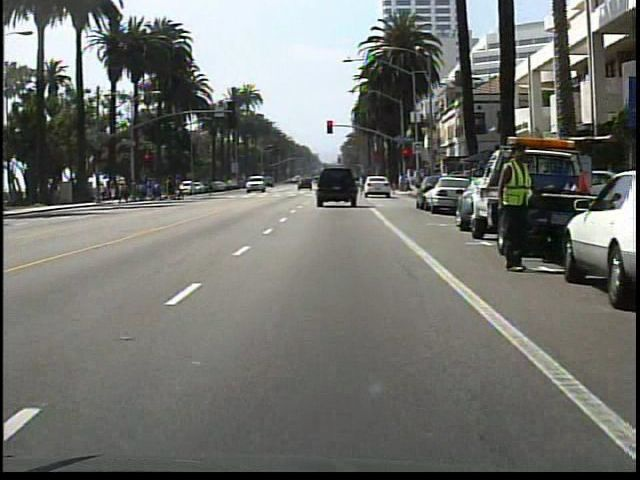person: (489, 138, 537, 275), (201, 172, 220, 201)
